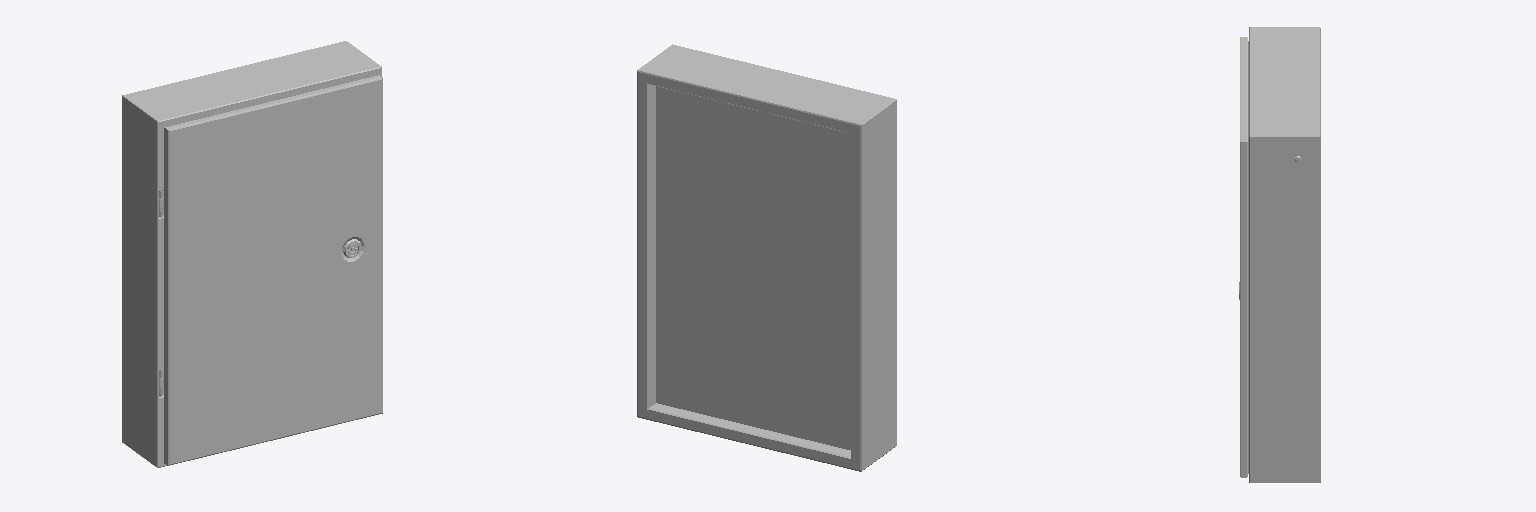
The model's file is power_box_01_4k.obj.
3 views of the same model, side by side, from view 1: azimuth 30°, elevation 25°; view 2: azimuth 150°, elevation 25°; view 3: azimuth 270°, elevation 25° (orthographic).
Visible parts, largest first — view 1: power_box_01_door_Plane, power_box_01_box_Cube.002; view 2: power_box_01_box_Cube.002; view 3: power_box_01_box_Cube.002, power_box_01_door_Plane.
Part boxes in pixels (x1,y1,x2,y2): power_box_01_door_Plane: (159, 75, 382, 465); power_box_01_box_Cube.002: (122, 41, 381, 467); power_box_01_box_Cube.002: (637, 44, 896, 471); power_box_01_box_Cube.002: (1249, 27, 1320, 482); power_box_01_door_Plane: (1239, 37, 1248, 477).
Bounding box in the file's own units: 0.3455 × 0.5031 × 0.1071.